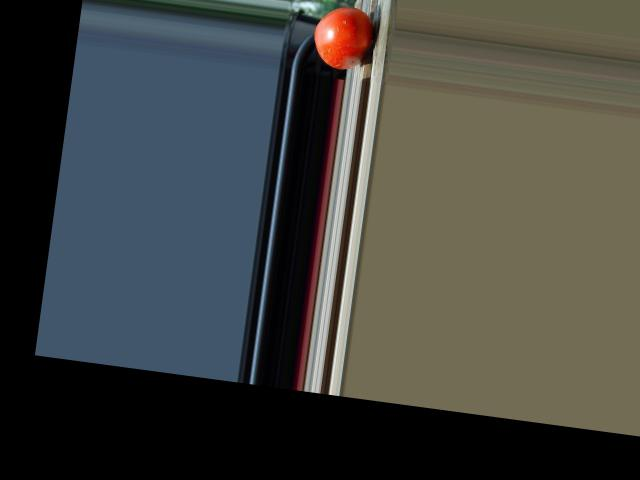tomato: (310, 2, 375, 72)
